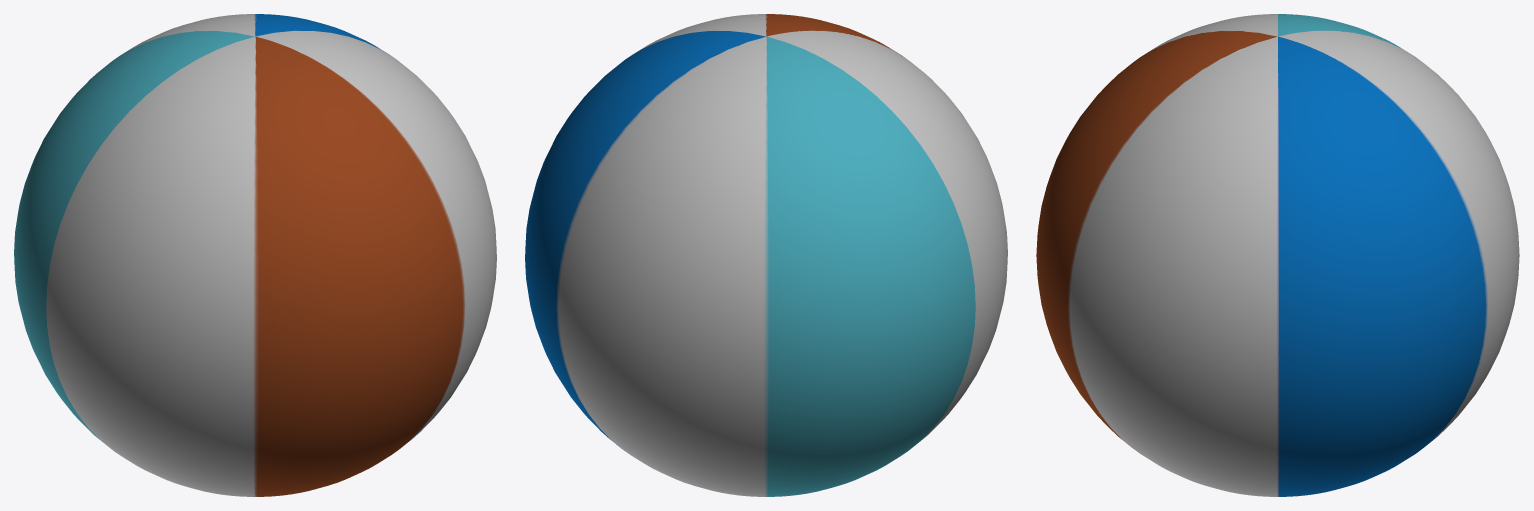
File: BeachBall.glb
3 views of the same model, side by side, from view 1: azimuth 30°, elevation 25°; view 2: azimuth 150°, elevation 25°; view 3: azimuth 270°, elevation 25° (orthographic).
Parts seen in each view (by area): view 1: sphere; view 2: sphere; view 3: sphere.
Boxes of the visible parts, x1,y1,x2,y2 form: sphere: (14, 14, 496, 496); sphere: (525, 14, 1007, 496); sphere: (1036, 14, 1519, 496).
Size of the model in its own units: 1 by 1 by 1.
1 material, 1 textured.
